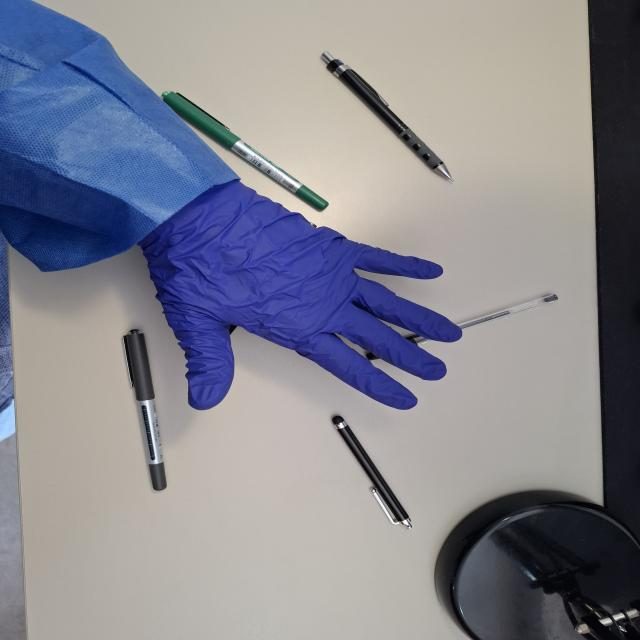glove_on: (134, 168, 466, 412)
